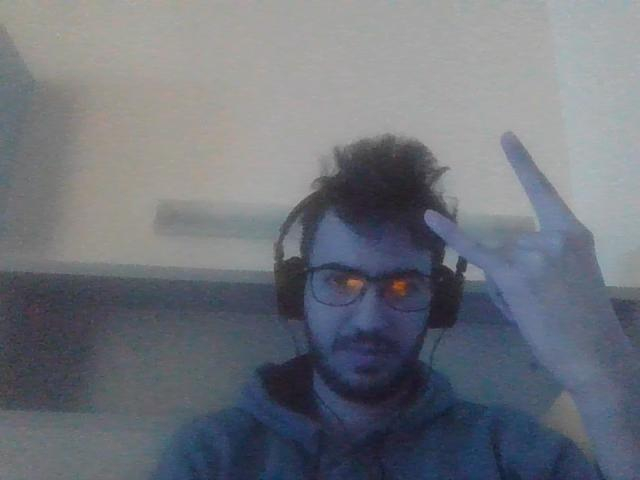iloveyou: (422, 131, 634, 394)
